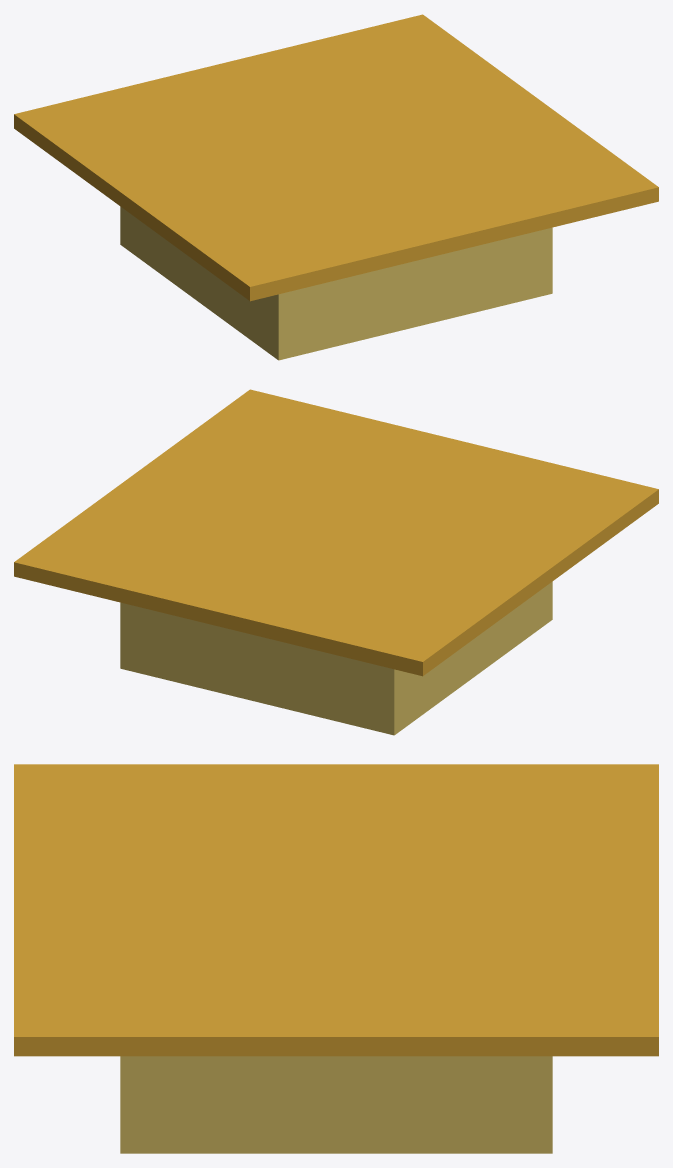
File: desk208262025.fbx
The picture shows the model from 3 angles, top to bottom: view 1: azimuth 30°, elevation 25°; view 2: azimuth 150°, elevation 25°; view 3: azimuth 270°, elevation 25°; orthographic projection. The views are drawn at different scales.
Parts seen in each view (by area): view 1: 立方体, Cube; view 2: 立方体, Cube; view 3: 立方体, Cube.
Part boxes in pixels (left/top/right/bottom): 立方体: left=14, top=14, right=658, bottom=301; Cube: left=120, top=206, right=552, bottom=360; 立方体: left=14, top=389, right=658, bottom=676; Cube: left=120, top=581, right=552, bottom=735; 立方体: left=14, top=764, right=658, bottom=1056; Cube: left=120, top=1056, right=552, bottom=1153.
Bounding box in the file's own units: 3.56 × 0.9864 × 3.56.
